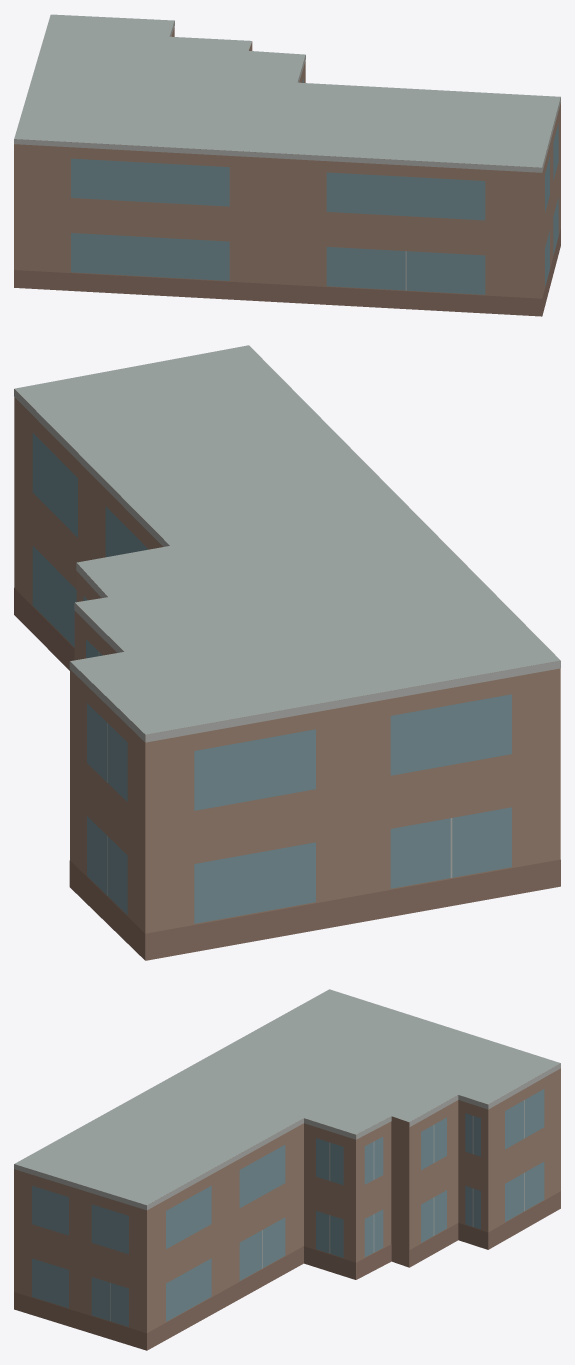
Rendered from survey-upis-32495045.glb.
3 renders of one model, top to bottom at view 1: azimuth 30°, elevation 25°; view 2: azimuth 150°, elevation 25°; view 3: azimuth 270°, elevation 25°, orthographic. The views are drawn at different scales.
Visible parts, largest first — view 1: survey-upis-32495045.tmp; view 2: survey-upis-32495045.tmp; view 3: survey-upis-32495045.tmp.
Part boxes in pixels (x1,y1,x2,y2): survey-upis-32495045.tmp: (14,14,560,316); survey-upis-32495045.tmp: (14,345,560,960); survey-upis-32495045.tmp: (14,989,560,1350).
Bounding box in the file's own units: 22.33 × 7 × 23.87.
